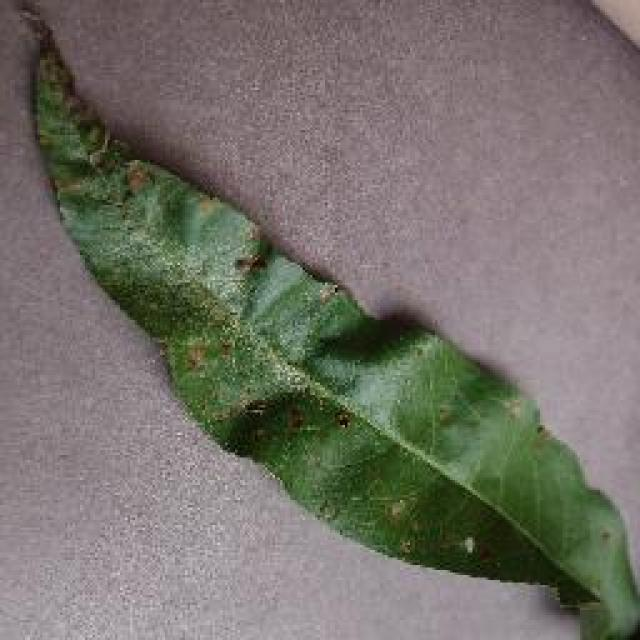Peach_Bacterial_Spot: (20, 75, 353, 375)
